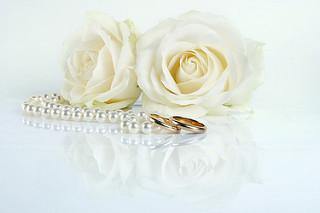Rose: (136, 7, 267, 117), (59, 11, 140, 115)
